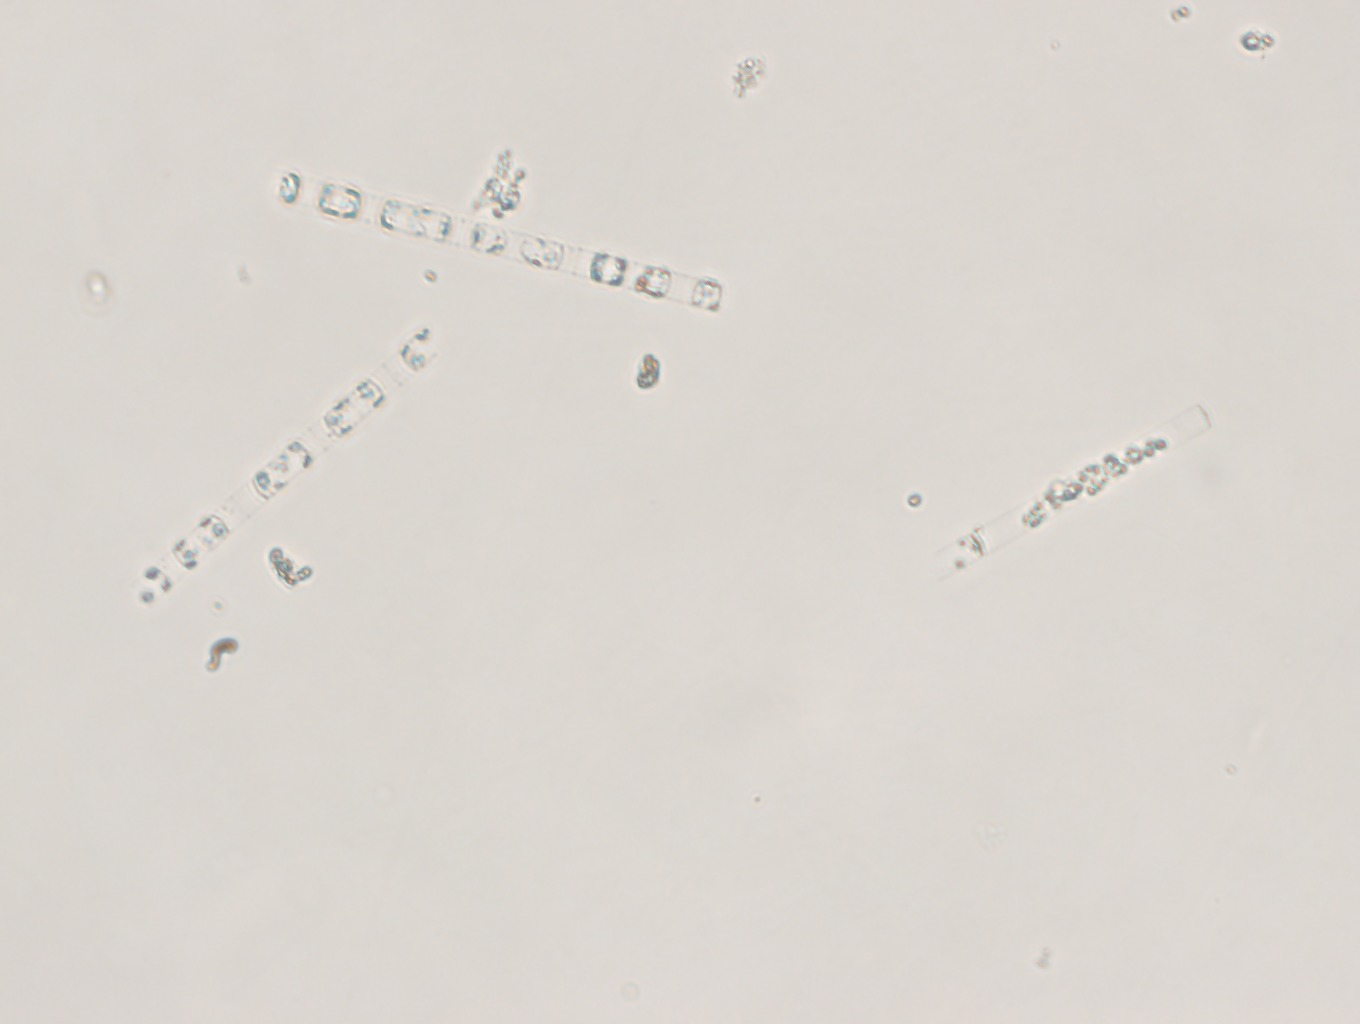guinardia flaccida: (928, 406, 1244, 577)
skeletonema: (135, 328, 466, 621), (266, 166, 732, 329)
